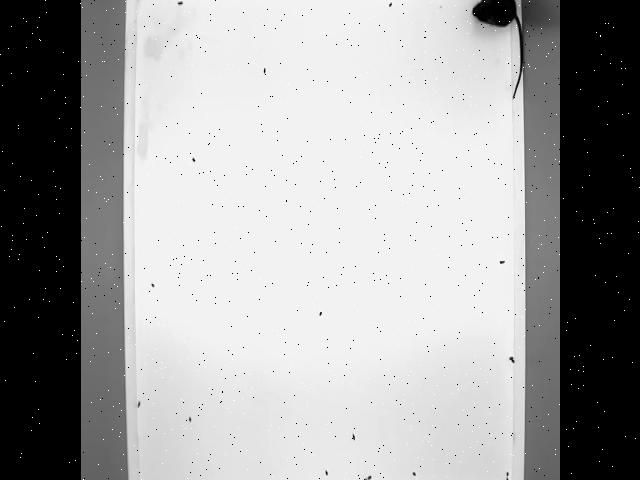Tikus: (470, 0, 524, 107)
